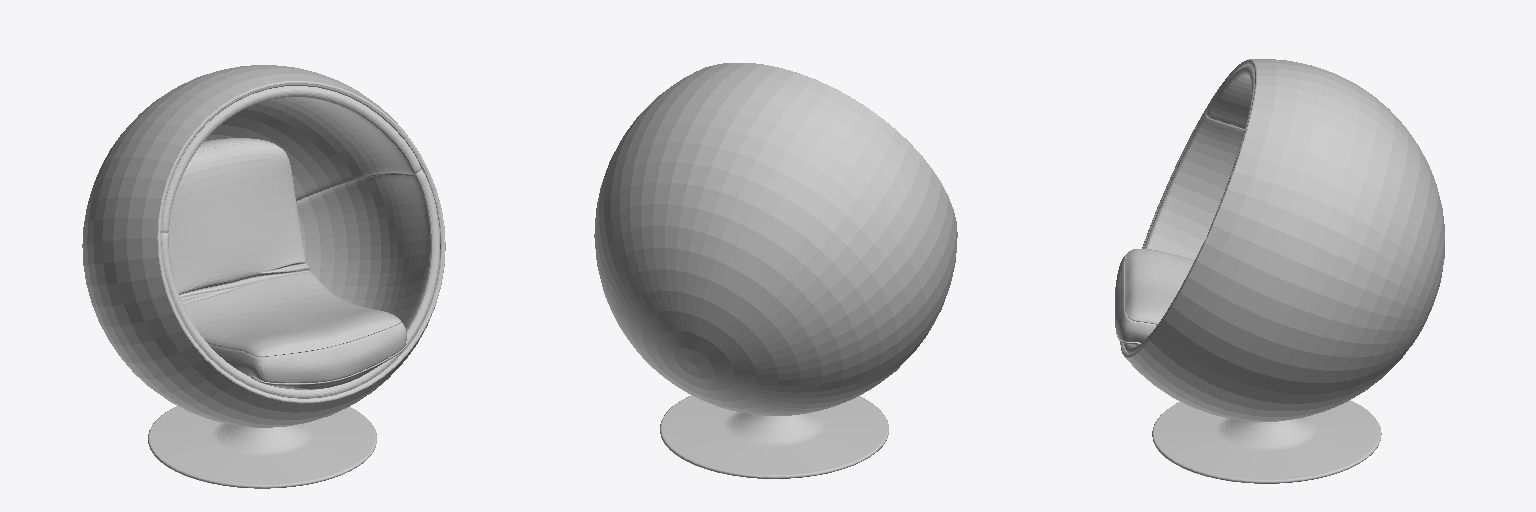
File: armchair 007.obj
The picture shows the model from 3 angles: view 1: azimuth 30°, elevation 25°; view 2: azimuth 150°, elevation 25°; view 3: azimuth 270°, elevation 25°; orthographic projection.
Parts seen in each view (by area): view 1: obj_01, obj_04, obj_02, obj_03; view 2: obj_04, obj_03; view 3: obj_04, obj_03, obj_02, obj_01.
Part boxes in pixels (left/top/right/bottom): obj_01: left=168, top=138, right=406, bottom=389; obj_04: left=82, top=65, right=445, bottom=427; obj_02: left=161, top=86, right=439, bottom=398; obj_03: left=148, top=406, right=376, bottom=488; obj_04: left=594, top=63, right=957, bottom=415; obj_03: left=660, top=395, right=888, bottom=478; obj_04: left=1120, top=59, right=1444, bottom=421; obj_03: left=1152, top=400, right=1381, bottom=483; obj_02: left=1124, top=65, right=1254, bottom=353; obj_01: left=1115, top=249, right=1194, bottom=346.
Bounding box in the file's own units: 42.77 × 46.74 × 38.9.